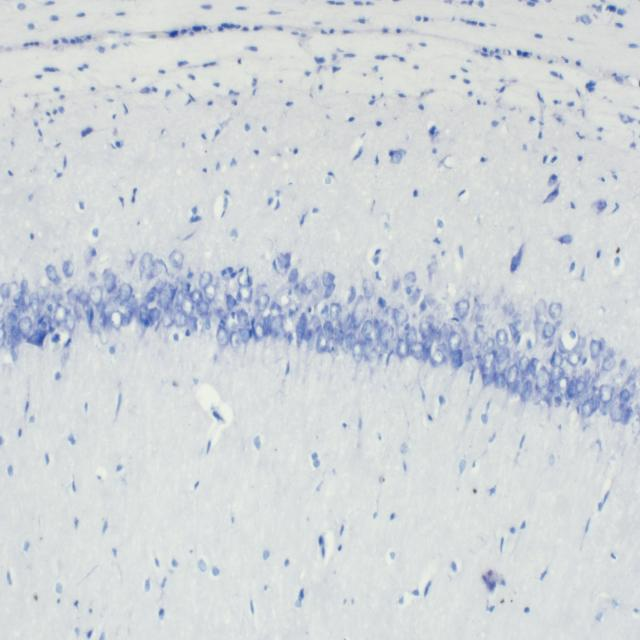neuron: (351, 295, 368, 328), (296, 312, 307, 349), (378, 324, 394, 348), (114, 294, 133, 314), (89, 310, 106, 332), (302, 271, 319, 292), (610, 401, 627, 422), (482, 348, 498, 370), (536, 366, 551, 389), (18, 316, 32, 340), (45, 264, 60, 286), (103, 295, 118, 317), (429, 348, 446, 367), (367, 348, 381, 371), (598, 384, 614, 404), (449, 348, 464, 369), (66, 284, 80, 306), (89, 285, 103, 307), (393, 308, 409, 327), (455, 298, 470, 318), (216, 324, 229, 347), (270, 314, 283, 337), (53, 303, 67, 324), (109, 310, 123, 331), (236, 308, 250, 329), (396, 338, 410, 359), (448, 331, 462, 352), (236, 286, 252, 304), (362, 277, 375, 299), (506, 364, 519, 386), (548, 301, 563, 320), (199, 270, 213, 290), (404, 326, 418, 346), (6, 311, 18, 334), (520, 380, 532, 403), (181, 297, 194, 318), (169, 249, 183, 268), (256, 293, 270, 312), (316, 332, 328, 354), (327, 336, 339, 358), (338, 304, 350, 326), (352, 340, 364, 362), (119, 282, 132, 302), (140, 252, 153, 272), (158, 290, 171, 310), (440, 324, 453, 344), (535, 298, 546, 321), (38, 315, 52, 333), (162, 309, 176, 327), (508, 320, 522, 338), (590, 339, 602, 360), (334, 321, 344, 346), (329, 302, 342, 321), (475, 304, 490, 320), (550, 366, 566, 381), (567, 350, 582, 366), (410, 342, 424, 359), (418, 320, 432, 337), (542, 322, 556, 339), (550, 350, 564, 367), (403, 271, 416, 289), (105, 272, 116, 293), (204, 283, 216, 302), (230, 330, 242, 349), (253, 322, 265, 341), (474, 324, 486, 343), (558, 377, 570, 396), (581, 399, 593, 418), (238, 272, 253, 287), (482, 371, 496, 387), (10, 325, 23, 342), (145, 286, 158, 303), (174, 310, 187, 327), (602, 354, 615, 371), (362, 336, 373, 356), (2, 332, 14, 350), (62, 260, 74, 278), (409, 288, 421, 306), (518, 355, 530, 373), (29, 292, 39, 313), (127, 294, 138, 313), (190, 288, 203, 304), (196, 300, 209, 316), (294, 282, 307, 298), (360, 320, 373, 336), (64, 314, 76, 331), (150, 261, 162, 278), (238, 327, 250, 344), (496, 329, 508, 346), (138, 302, 148, 322), (590, 394, 600, 414), (0, 282, 11, 300), (37, 286, 48, 304), (322, 271, 335, 286), (482, 337, 495, 352), (174, 276, 186, 292), (263, 314, 271, 338), (323, 320, 335, 336), (503, 300, 515, 316), (84, 245, 93, 266), (79, 289, 90, 306), (463, 344, 474, 361), (13, 291, 25, 306), (148, 307, 160, 322), (324, 283, 336, 298), (345, 332, 357, 347), (529, 357, 539, 375), (620, 388, 630, 406), (288, 268, 299, 284), (495, 373, 506, 389), (176, 290, 186, 307), (226, 294, 236, 311), (566, 379, 574, 400), (575, 379, 586, 394), (216, 308, 228, 320), (392, 274, 400, 292), (497, 351, 509, 363), (122, 312, 132, 326), (21, 279, 29, 296), (51, 291, 62, 303), (304, 329, 314, 342), (74, 305, 82, 320), (424, 338, 433, 350), (205, 318, 212, 331), (156, 280, 163, 292), (512, 351, 519, 363), (600, 405, 607, 416)
